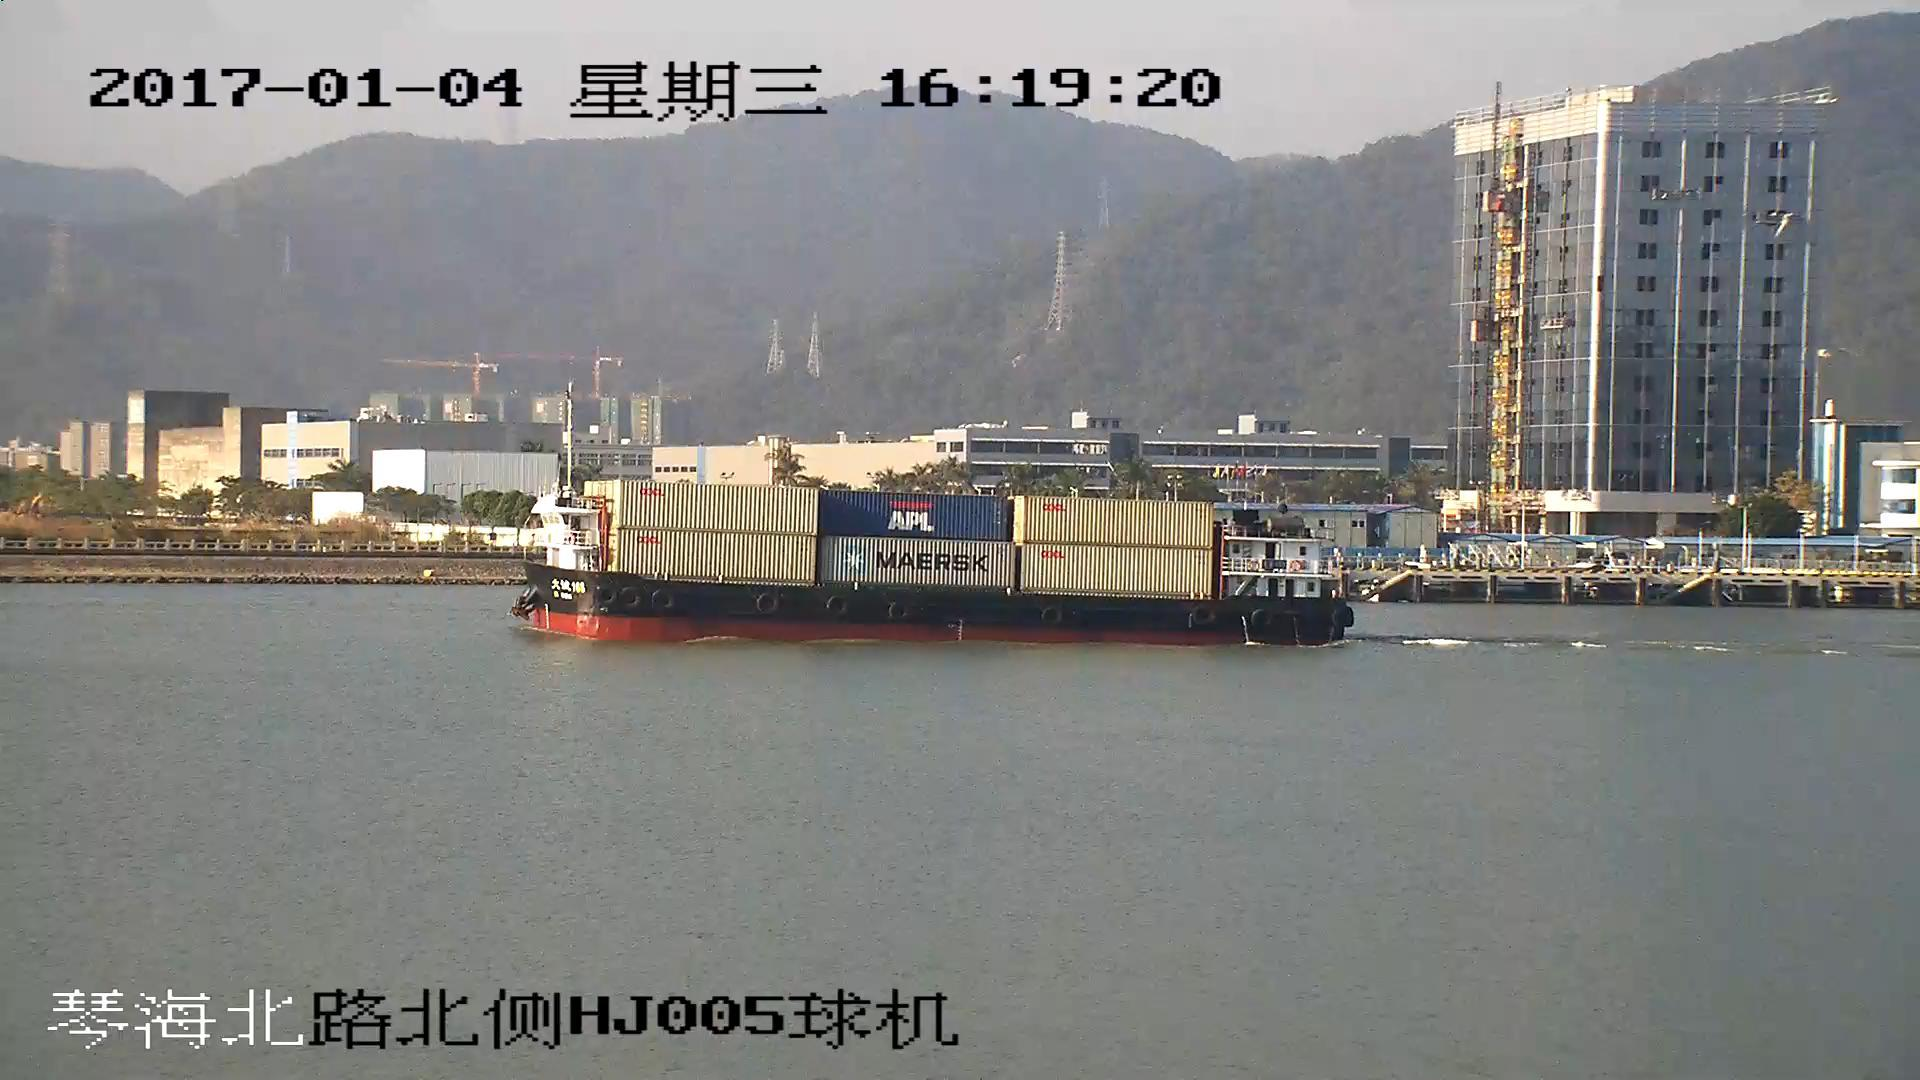Ship: (513, 477, 1356, 647)
